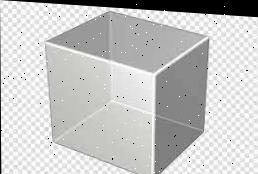cube: (42, 4, 208, 174)
